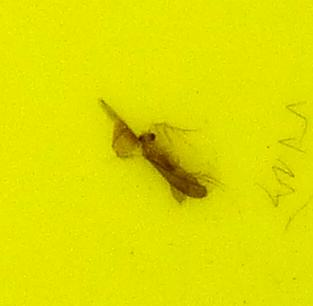Trichoptera: (100, 100, 213, 206)
